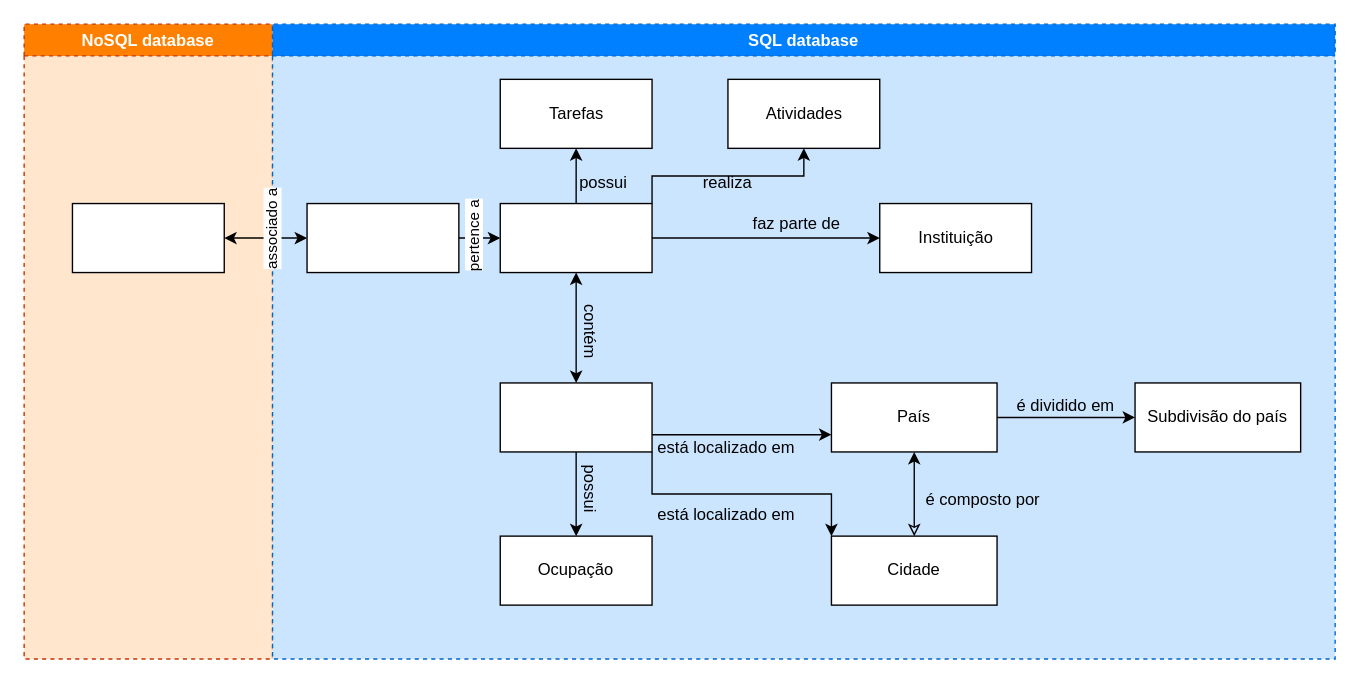
This 1359x683 diagram has some shape labels left out. The centre of each missing label's shape, as x and y in pixels:
"Dados do sensor" belongs at (x=147, y=237).
"Dispositivo" belongs at (x=382, y=237).
"Perfil" belongs at (x=575, y=417).
"Usuário" belongs at (x=575, y=237).
